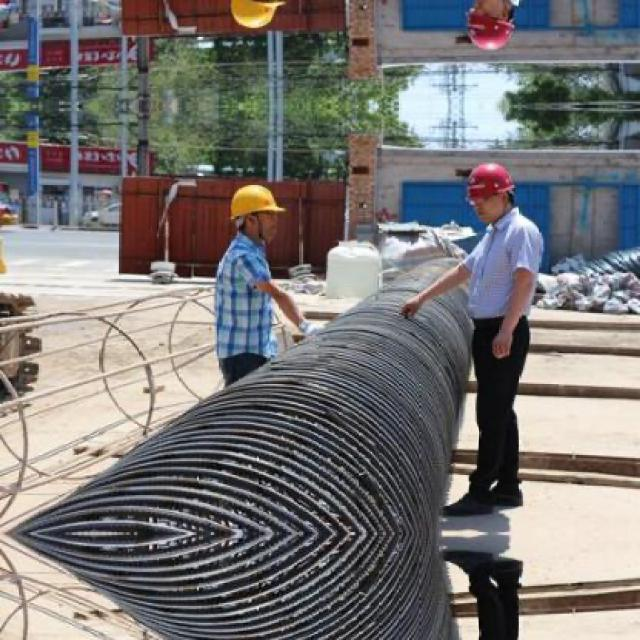helmet: (226, 179, 283, 244), (464, 159, 518, 220), (465, 0, 520, 56), (227, 0, 285, 35)
